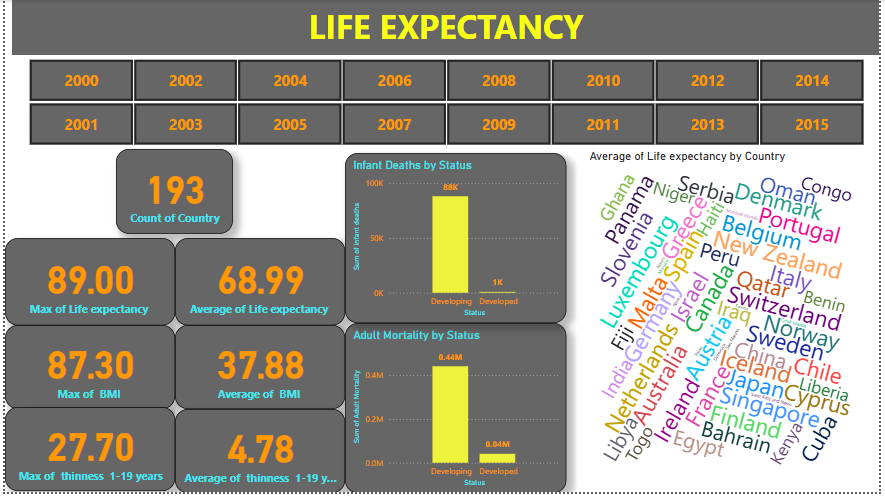

This screenshot's page, from the dashboard's own definition file:
{"tool":"powerbi","page":{"name":"Page 1","canvas":[1280,720],"ordinal":0},"visuals":[{"type":"textbox","box":[10.1,0,1269.9,80.6],"z":0},{"type":"slicer","fields":{"Values":["Life Expectancy Data.Year"]},"box":[10.1,80.6,1269.9,137.7],"z":1},{"type":"card","fields":{"Values":["Count(Life Expectancy Data.Country)"]},"box":[162.9,218.4,171.3,124.3],"z":3},{"type":"card","fields":{"Values":["Max(Life Expectancy Data.Life expectancy )"]},"box":[0,347.7,248.6,127.7],"z":4},{"type":"card","fields":{"Values":["Avg(Life Expectancy Data.Life expectancy )"]},"box":[248.6,347.7,248.6,127.7],"z":5},{"type":"card","fields":{"Values":["Max(Life Expectancy Data. BMI )"]},"box":[0,475.4,248.6,122.6],"z":7},{"type":"card","fields":{"Values":["Avg(Life Expectancy Data. BMI )"]},"box":[248.6,475.4,248.6,122.6],"z":8},{"type":"card","fields":{"Values":["Max(Life Expectancy Data. thinness  1-19 years)"]},"box":[0,596.3,248.6,122.6],"z":10},{"type":"card","fields":{"Values":["Avg(Life Expectancy Data. thinness  1-19 years)"]},"box":[248.6,598,248.6,122.6],"z":11},{"type":"WordCloud1447959067750","fields":{"Category":["Life Expectancy Data.Country"],"Values":["Avg(Life Expectancy Data.Life expectancy )"]},"box":[850,218.4,430,500.6],"z":12},{"type":"columnChart","title":"Adult Mortality by Status","fields":{"Category":["Life Expectancy Data.Status"],"Y":["Sum(Life Expectancy Data.Adult Mortality)"]},"box":[497.2,472,324.2,248.6],"z":13},{"type":"columnChart","title":"Infant Deaths by Status","fields":{"Category":["Life Expectancy Data.Status"],"Y":["Sum(Life Expectancy Data.infant deaths)"]},"box":[497.2,223.4,324.2,248.6],"z":14}]}

Visuals, with their boxes in screenshot pixels (x1, y1, x2, y2), scaled from the page's 1280x720 canvas onto the 885x497 screenshot:
textbox: BBox(7, 0, 884, 56)
slicer - Life Expectancy Data.Year: BBox(7, 56, 884, 151)
card - Count(Life Expectancy Data.Country): BBox(113, 151, 231, 237)
card - Max(Life Expectancy Data.Life expectancy ): BBox(0, 240, 172, 328)
card - Avg(Life Expectancy Data.Life expectancy ): BBox(172, 240, 344, 328)
card - Max(Life Expectancy Data. BMI ): BBox(0, 328, 172, 413)
card - Avg(Life Expectancy Data. BMI ): BBox(172, 328, 344, 413)
card - Max(Life Expectancy Data. thinness  1-19 years): BBox(0, 412, 172, 496)
card - Avg(Life Expectancy Data. thinness  1-19 years): BBox(172, 413, 344, 496)
WordCloud1447959067750 - Life Expectancy Data.Country x Avg(Life Expectancy Data.Life expectancy ): BBox(588, 151, 884, 496)
"Adult Mortality by Status" columnChart: BBox(344, 326, 568, 496)
"Infant Deaths by Status" columnChart: BBox(344, 154, 568, 326)
